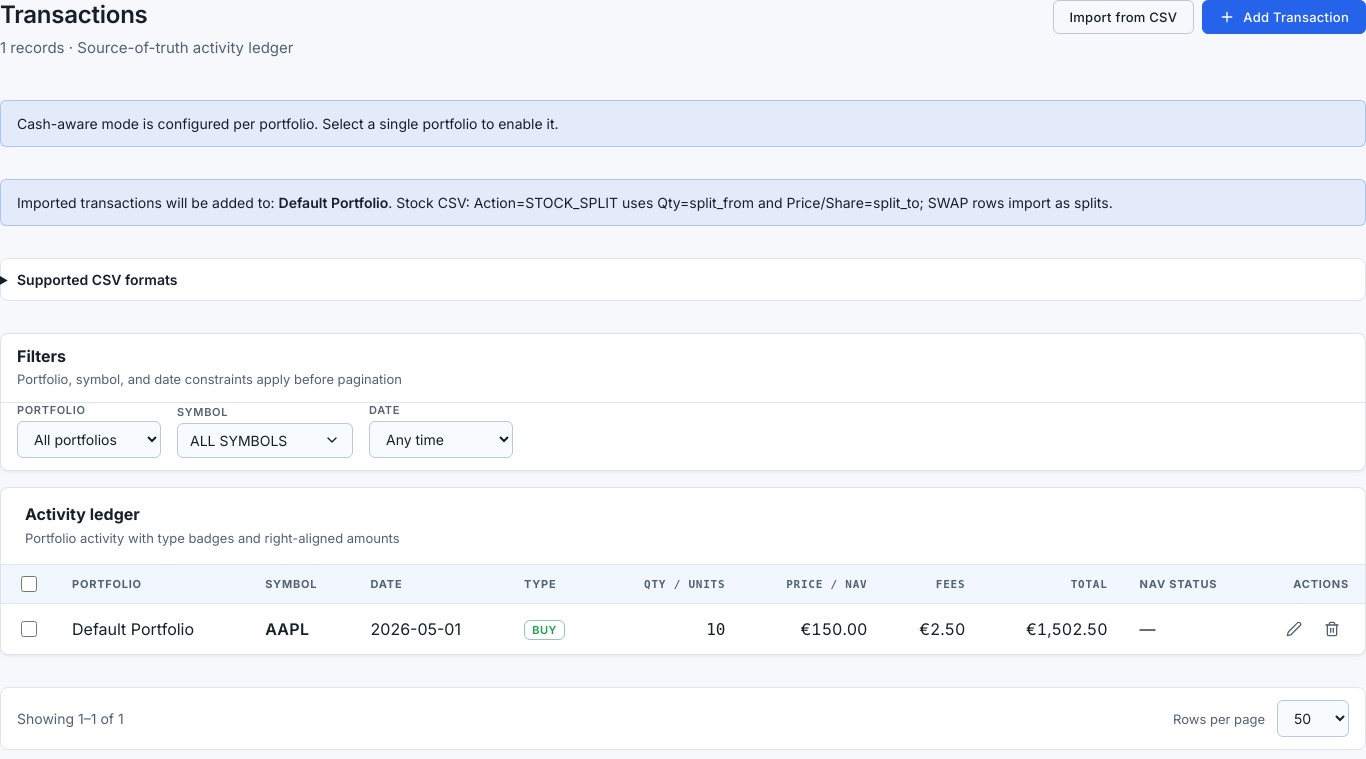
Transactions Page › shows future-impact panel when delete is blocked by linked settlement
Expected: the text "AAPL" is shown, [265,619,309,639]
Step 1. Click the button titled "Delete" → (1332, 629), box [1315,612,1349,646]
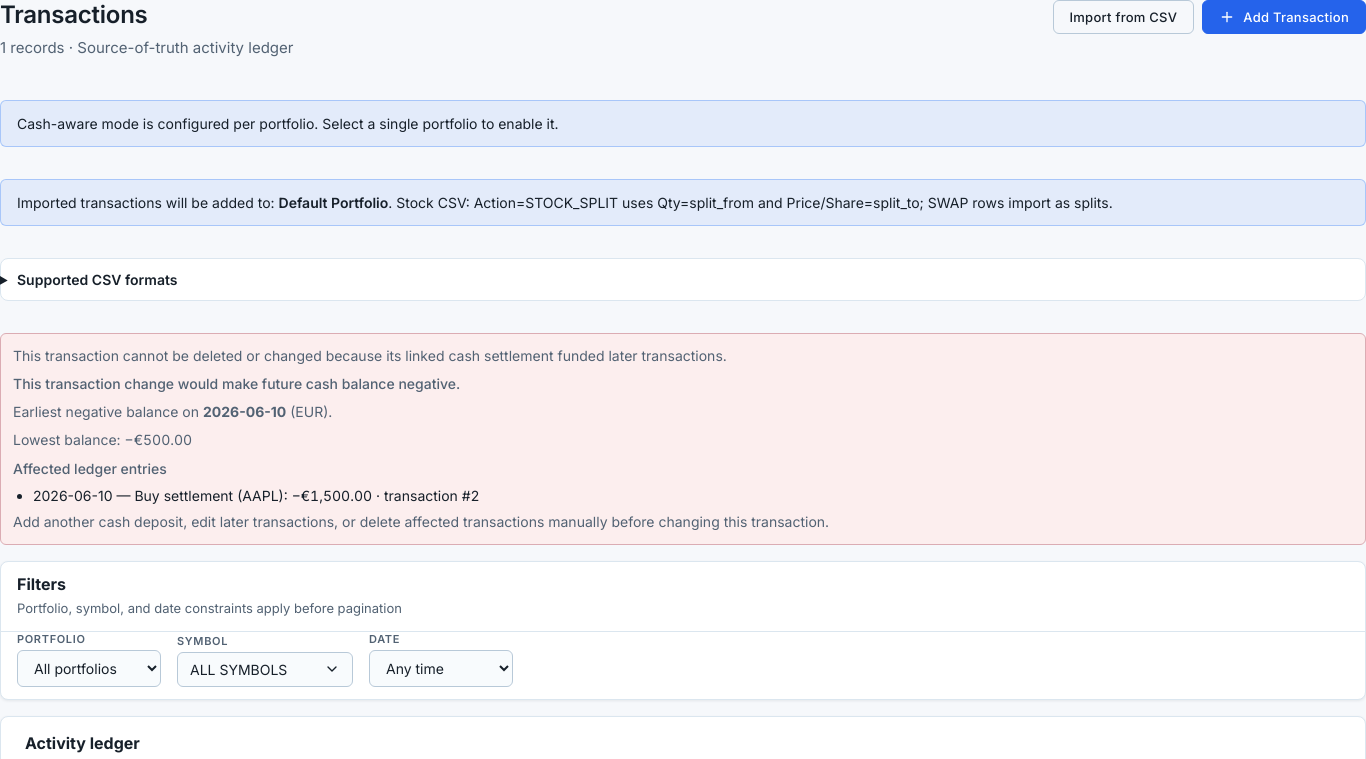
Result: the text "linked cash settlement funded later transactions" is shown at [13,346,727,364]
Result: the text "Earliest negative balance on 2026-06-10 (EUR)." is shown at [13,403,332,420]
Result: the text "Affected ledger entries" is shown at [13,460,167,477]
